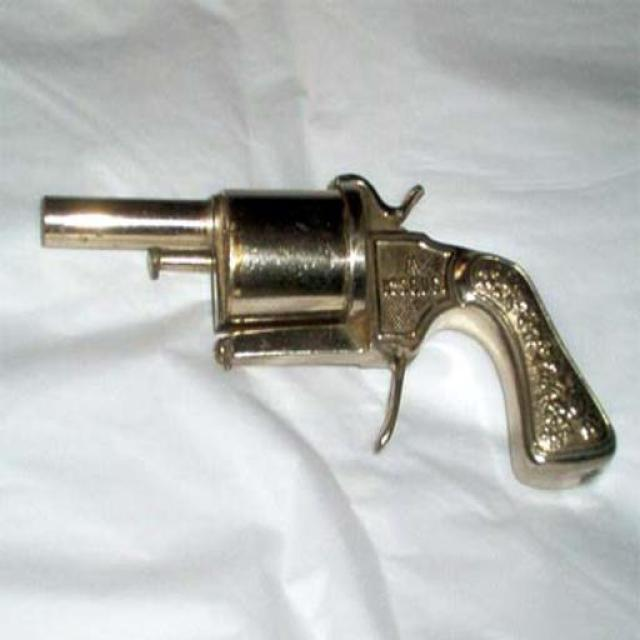pistol: (35, 173, 619, 489)
